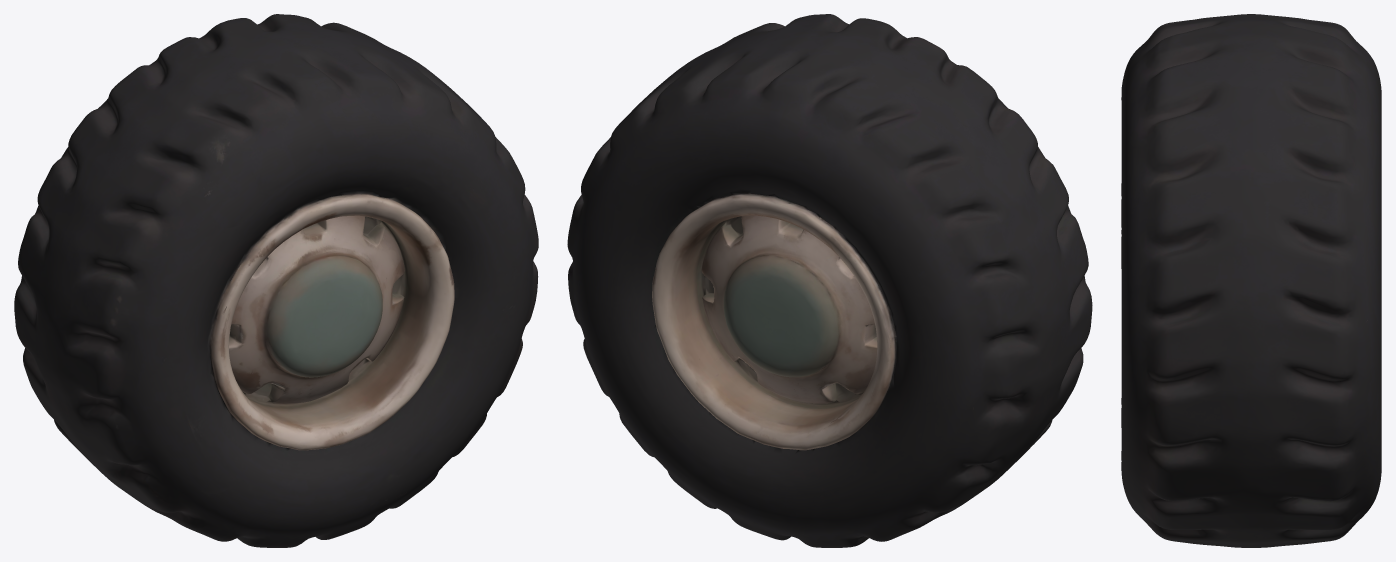
The model's file is wheel.glb.
3 renders of one model, left to right at view 1: azimuth 30°, elevation 25°; view 2: azimuth 150°, elevation 25°; view 3: azimuth 270°, elevation 25°, orthographic. The views are drawn at different scales.
Parts seen in each view (by area): view 1: tripo_node_9aaa009b-3fbe-4707-952f-d2cfcfda1505; view 2: tripo_node_9aaa009b-3fbe-4707-952f-d2cfcfda1505; view 3: tripo_node_9aaa009b-3fbe-4707-952f-d2cfcfda1505.
Part boxes in pixels (x1=…): tripo_node_9aaa009b-3fbe-4707-952f-d2cfcfda1505: x1=14, y1=14, x2=538, y2=547; tripo_node_9aaa009b-3fbe-4707-952f-d2cfcfda1505: x1=567, y1=14, x2=1092, y2=547; tripo_node_9aaa009b-3fbe-4707-952f-d2cfcfda1505: x1=1121, y1=14, x2=1381, y2=547.
Size of the model in its own units: 0.9781 by 0.9799 by 0.4746.
Materials: 1 (1 with a texture image).
